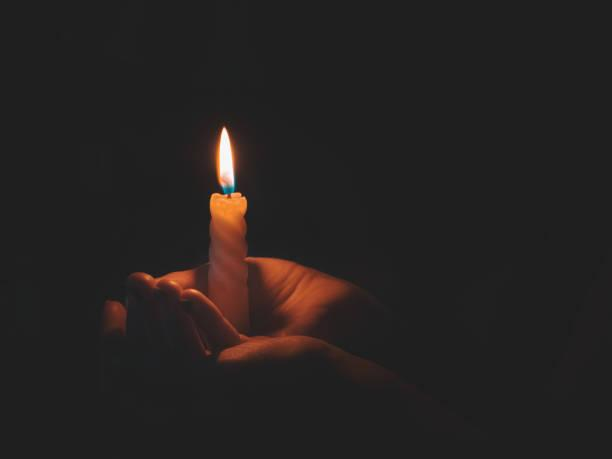Fire: (213, 126, 240, 193)
